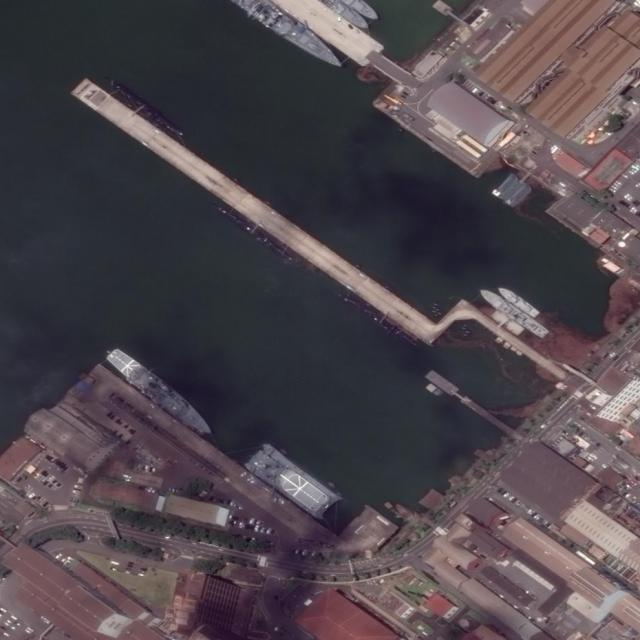Auxiliary Ships: (244, 439, 343, 524)
Destroyer: (103, 344, 221, 440)
Dock: (67, 76, 443, 345)
Other Warship: (478, 284, 549, 341), (495, 281, 542, 320)
Submarine: (101, 74, 185, 142), (333, 286, 420, 351), (211, 200, 296, 264)
